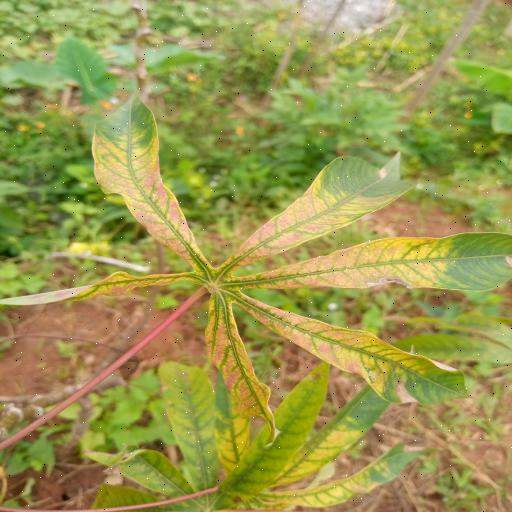Cassava_Mosaic: (2, 97, 512, 447), (86, 360, 422, 512)
